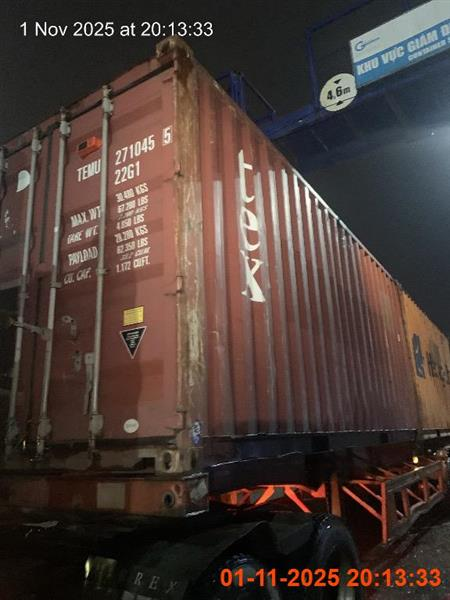broken: (0, 34, 449, 594)
